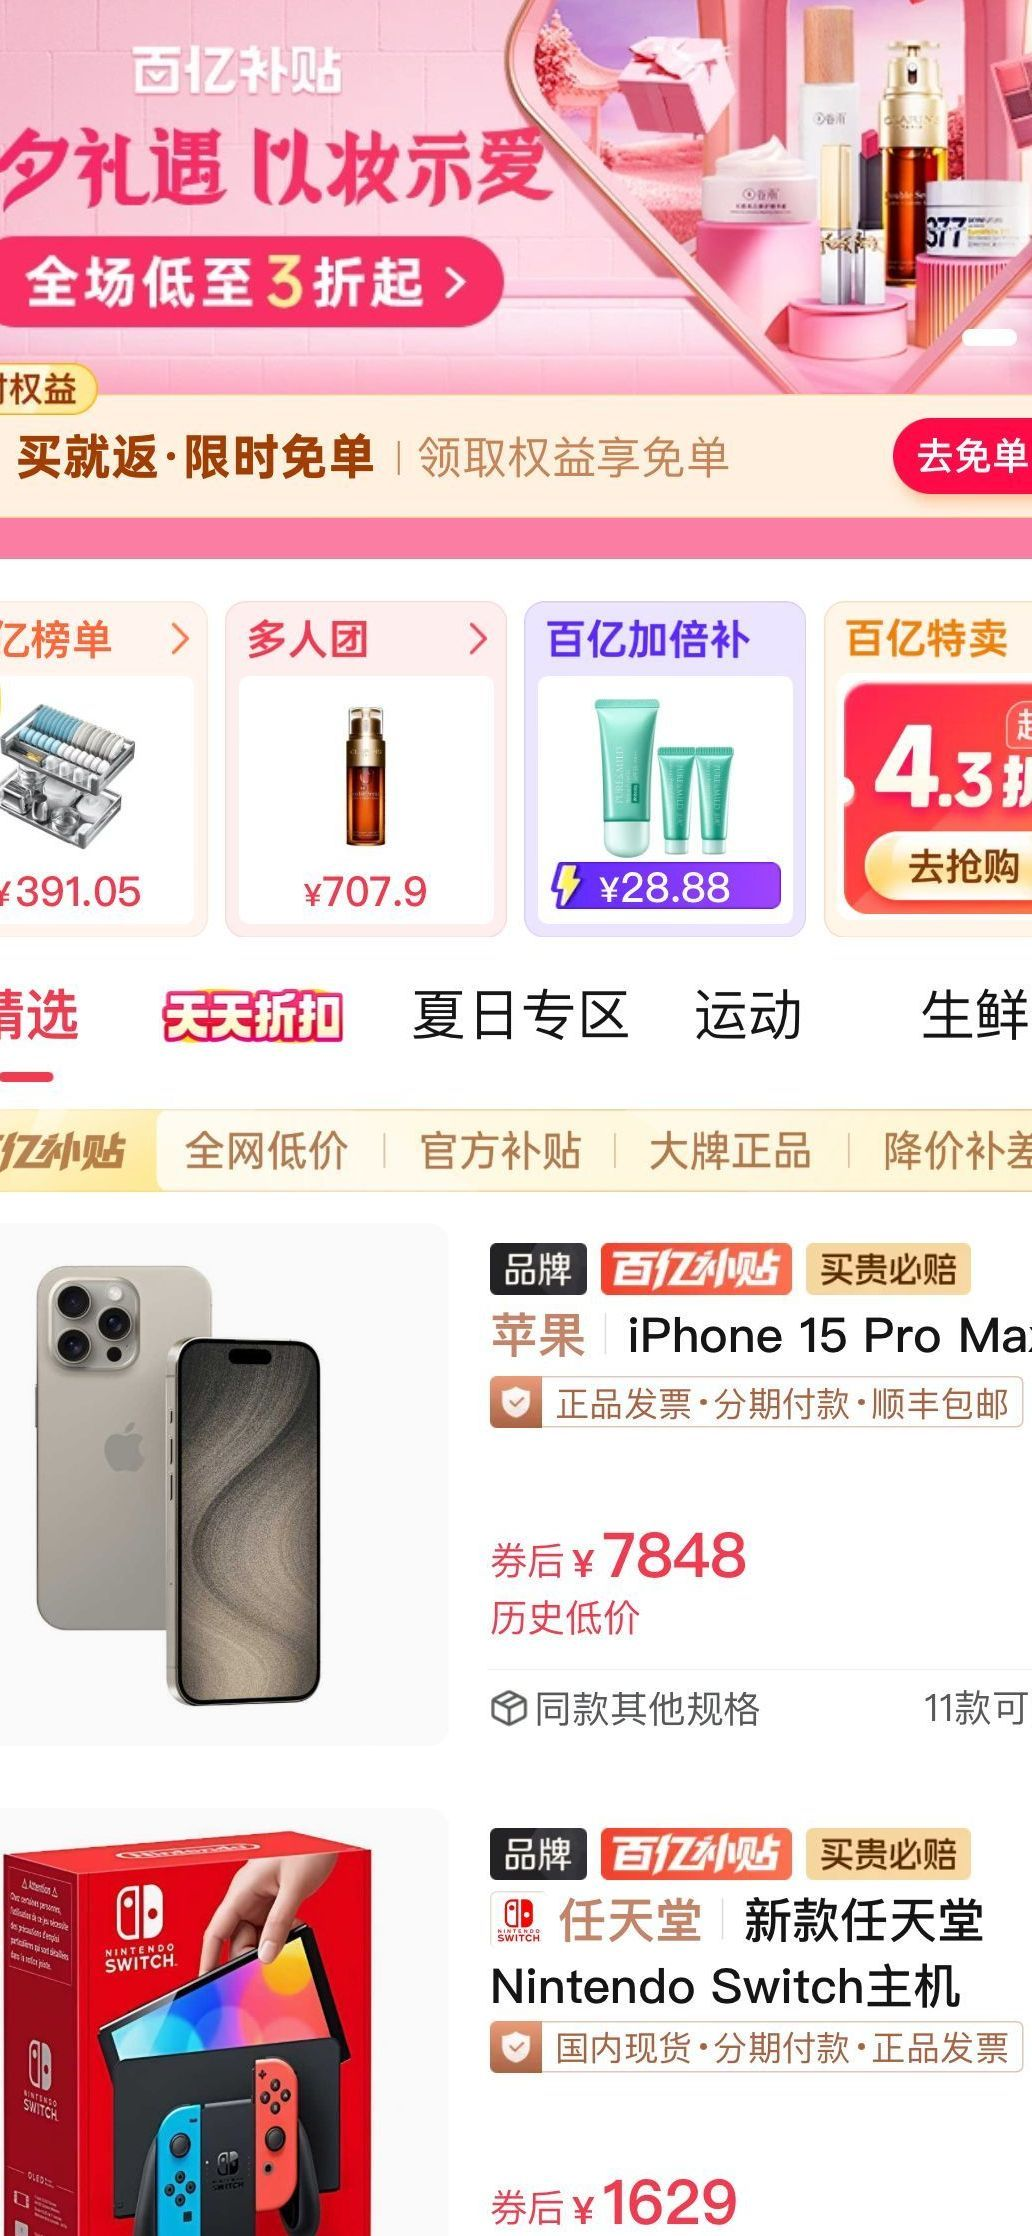banner: (1, 375, 1032, 528)
item: (20, 1216, 1032, 1811), (11, 1822, 1032, 2223)
seckill: (9, 565, 1029, 1101)
